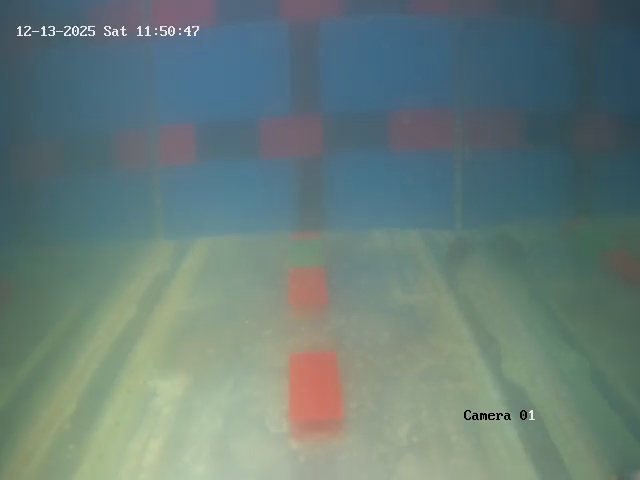fish: (426, 226, 491, 282)
